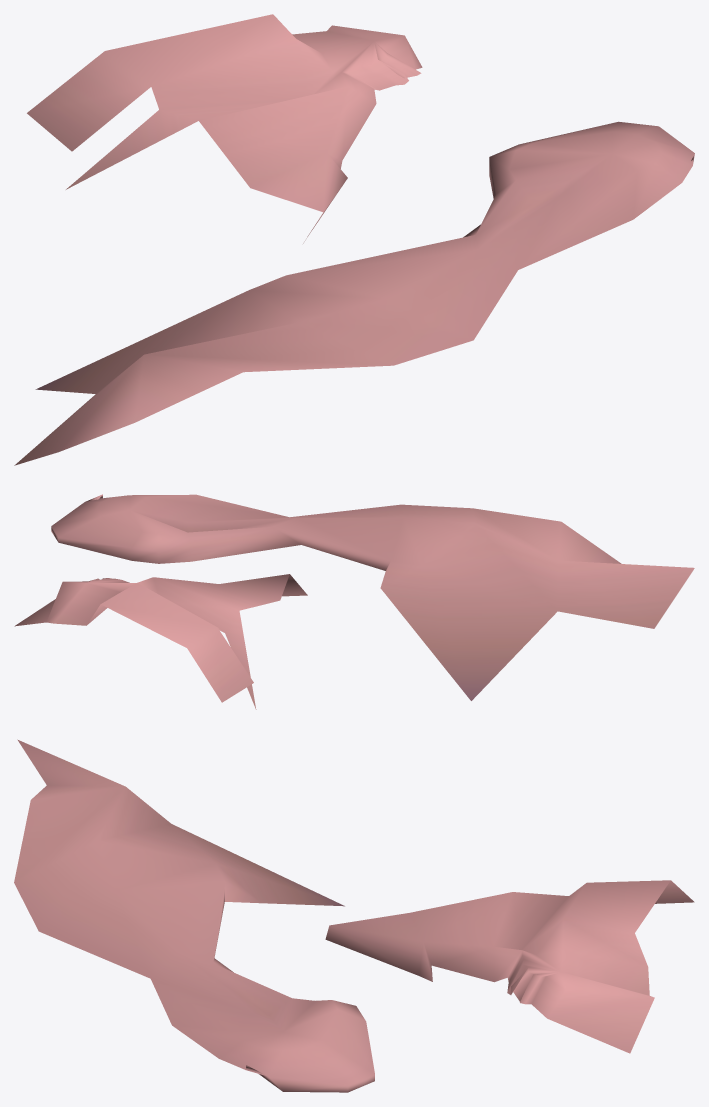
The model's file is moss1.fbx.
3 views of the same model, one above another, from view 1: azimuth 30°, elevation 25°; view 2: azimuth 150°, elevation 25°; view 3: azimuth 270°, elevation 25° (orthographic). The views are drawn at different scales.
Visible parts, largest first — view 1: moss1; view 2: moss1; view 3: moss1.
Boxes of the visible parts, x1=… form: moss1: x1=14, y1=14, x2=694, y2=465; moss1: x1=14, y1=494, x2=694, y2=709; moss1: x1=14, y1=739, x2=694, y2=1092.
Size of the model in its own units: 0.2647 by 0.0556 by 0.2179.
Materials: 1 (1 with a texture image).
